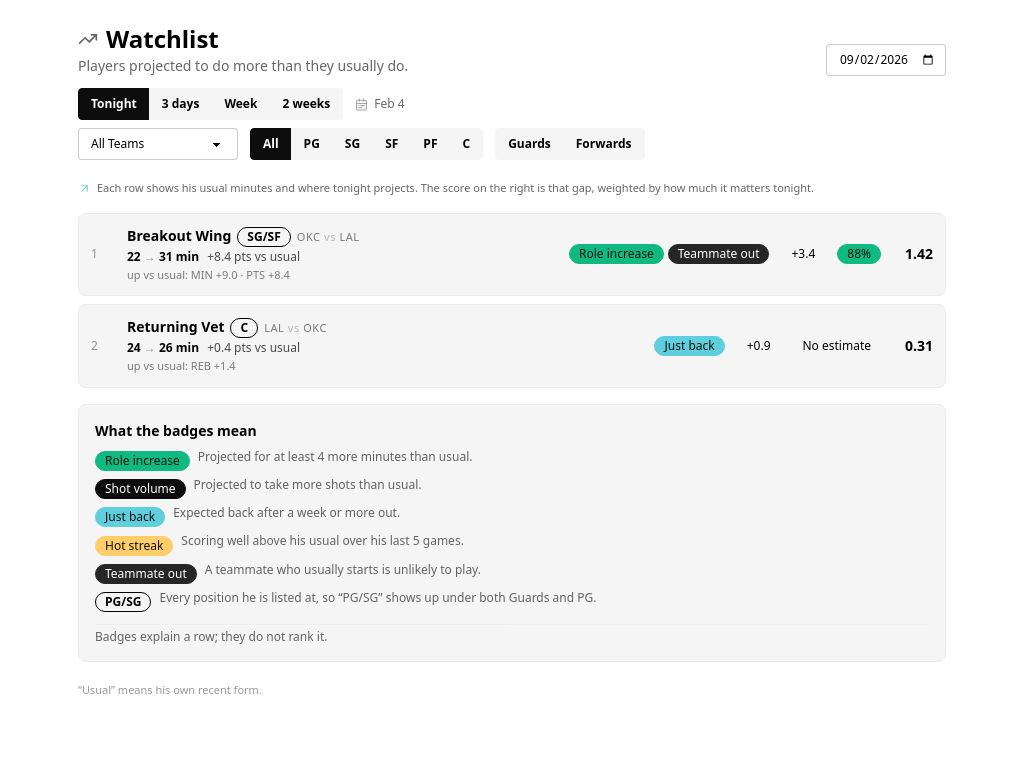
WatchlistPage team filter › gives a stale team filter its own empty state, with an escape hatch
Check: the text "Breakout Wing" is shown, box left=127, top=226, right=231, bottom=246
Select "OKC" in the dropdown named "Filter by team": (158,144) left=78, top=128, right=238, bottom=160
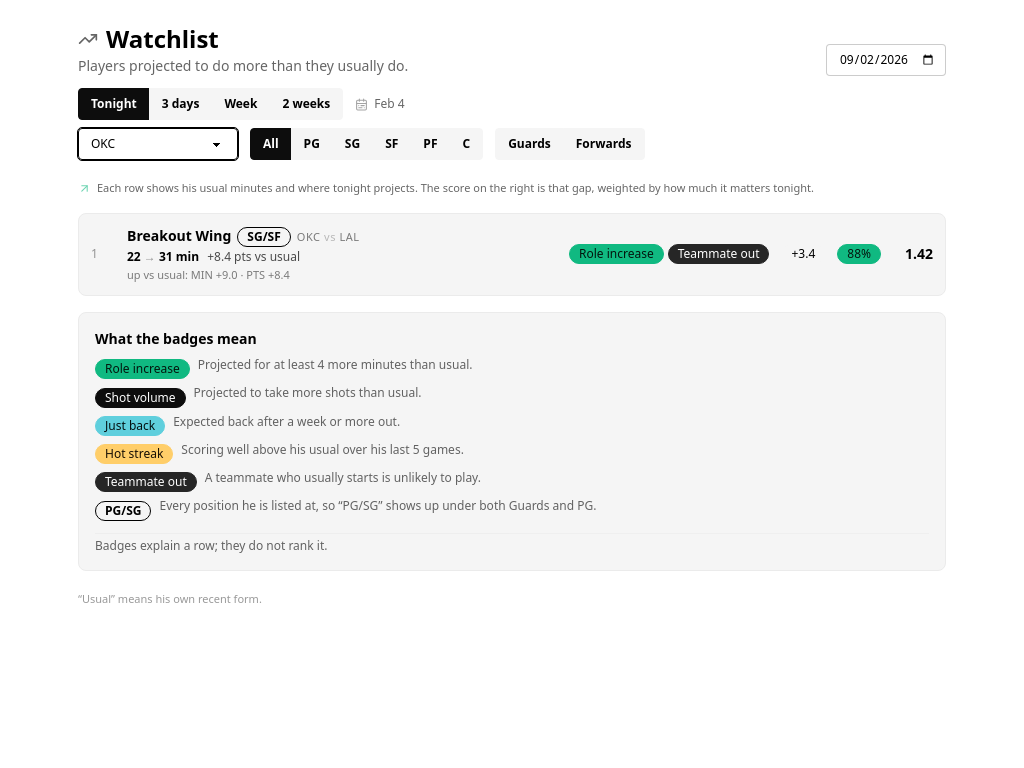
Check: the text "Breakout Wing" is shown, box left=127, top=226, right=231, bottom=246
Click the button "Week": (241,104) left=211, top=88, right=270, bottom=120
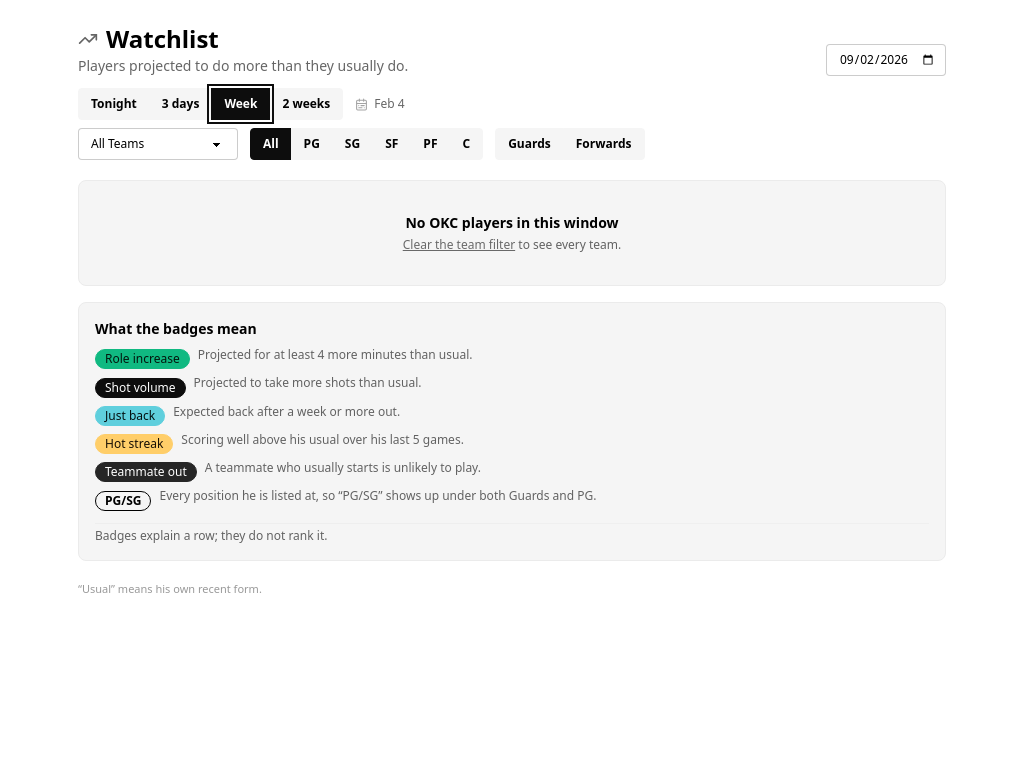
Check: the text "No OKC players in this window" is shown, box left=405, top=213, right=618, bottom=233
Click the button "Clear the team filter": (459,245) left=403, top=237, right=515, bottom=253
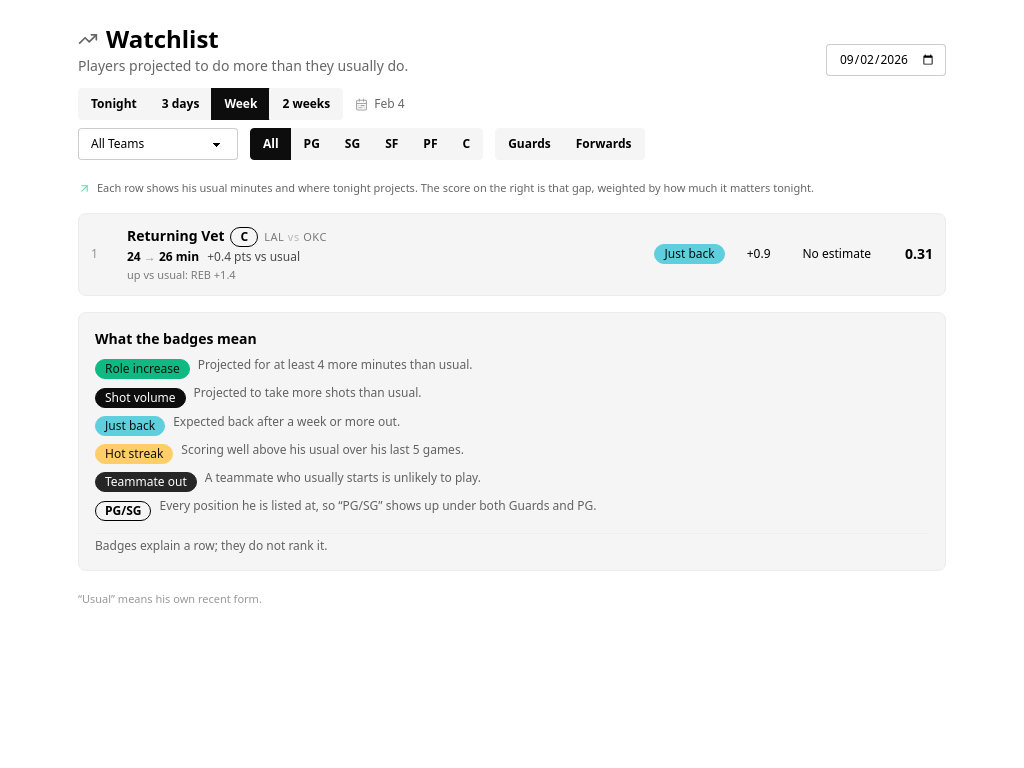
Check: the text "Returning Vet" is shown, box left=127, top=226, right=224, bottom=246
